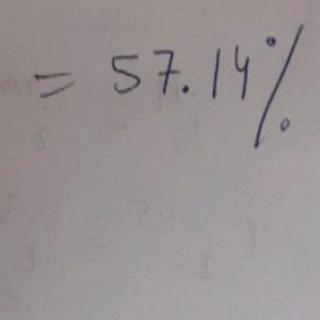.: (272, 115, 296, 134), (176, 77, 194, 98), (264, 33, 280, 51)
1: (211, 45, 224, 99)
4: (232, 47, 253, 103)
5: (108, 48, 144, 98)
7: (151, 43, 180, 96)
